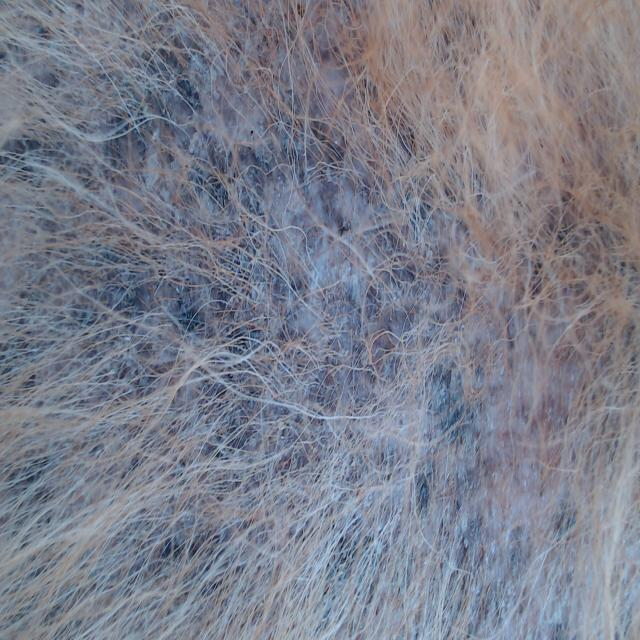demodicosis: (107, 51, 485, 552)
